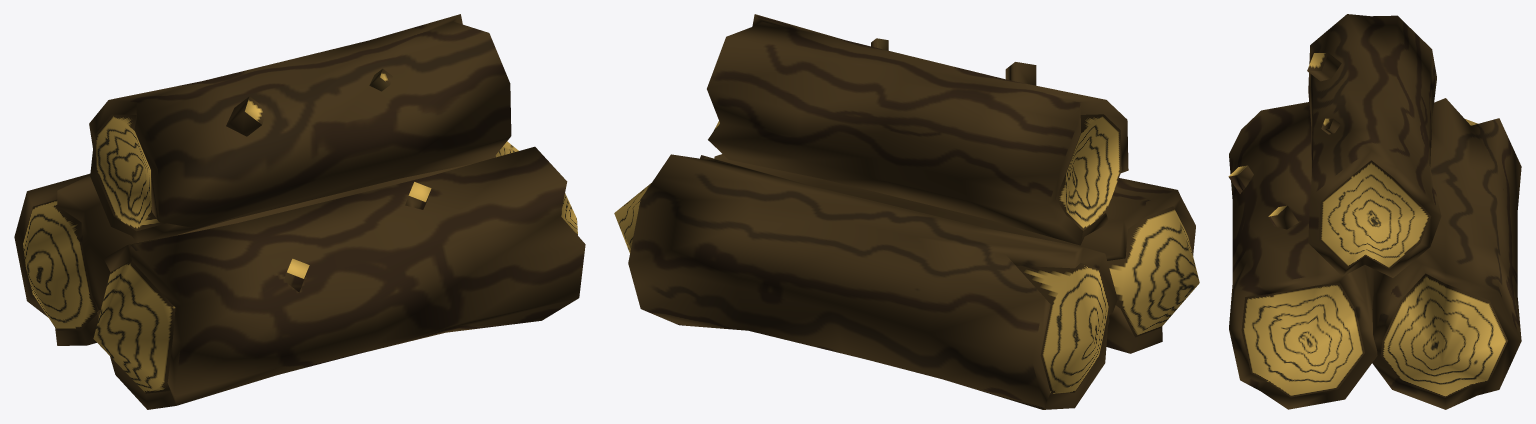
Rendered from Madera.fbx.
The picture shows the model from 3 angles, left to right: view 1: azimuth 30°, elevation 25°; view 2: azimuth 150°, elevation 25°; view 3: azimuth 270°, elevation 25°; orthographic projection. The views are drawn at different scales.
Parts seen in each view (by area): view 1: Tronco.001; view 2: Tronco.001; view 3: Tronco.001.
Boxes of the visible parts, left/top/right/bottom form: Tronco.001: left=14, top=14, right=585, bottom=409; Tronco.001: left=614, top=14, right=1199, bottom=409; Tronco.001: left=1228, top=14, right=1521, bottom=409.
Bounding box in the file's own units: 684 × 346 × 387.
